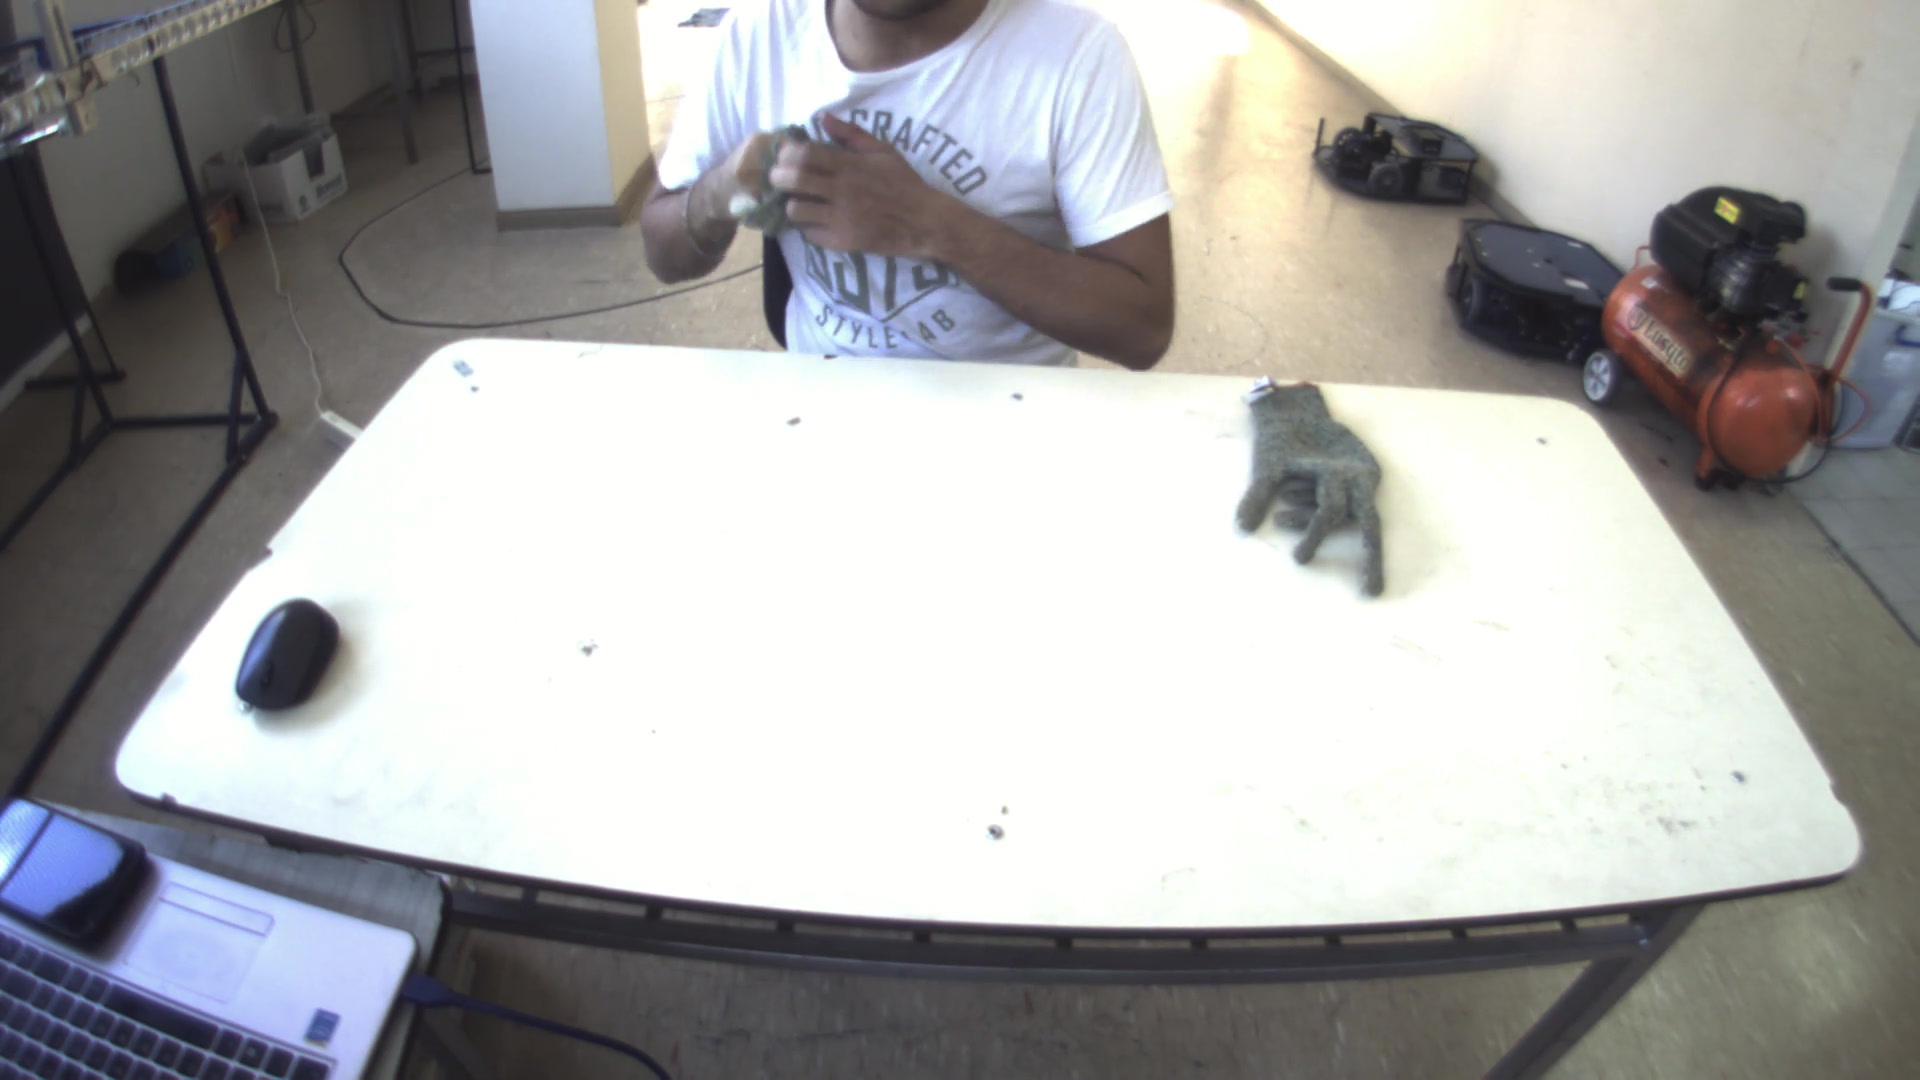hand: (744, 124, 963, 264)
